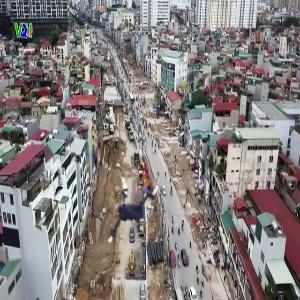drone: (87, 165, 170, 248)
